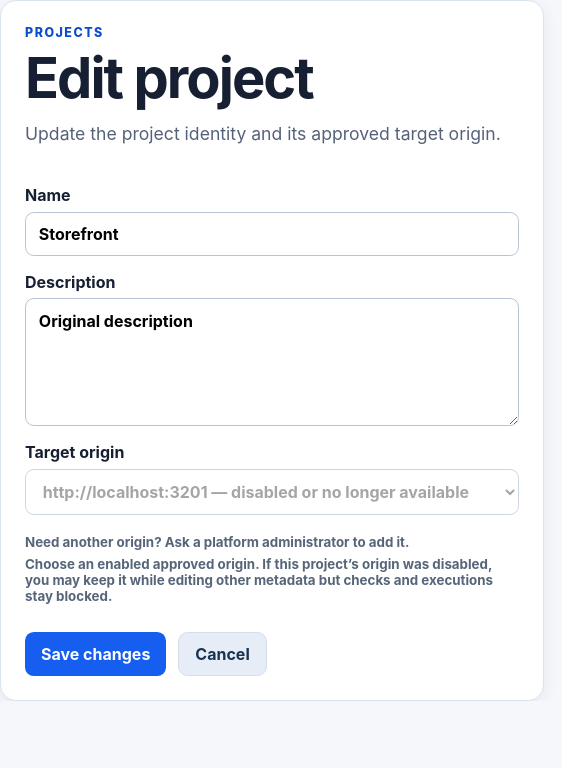
Test case: EditProjectPage › shows the correlation reference and reloads the latest project after a stale save
Step 1. Replace the text in the field labelled "Name" with "Local edit" → (272, 234), box [25, 212, 519, 256]
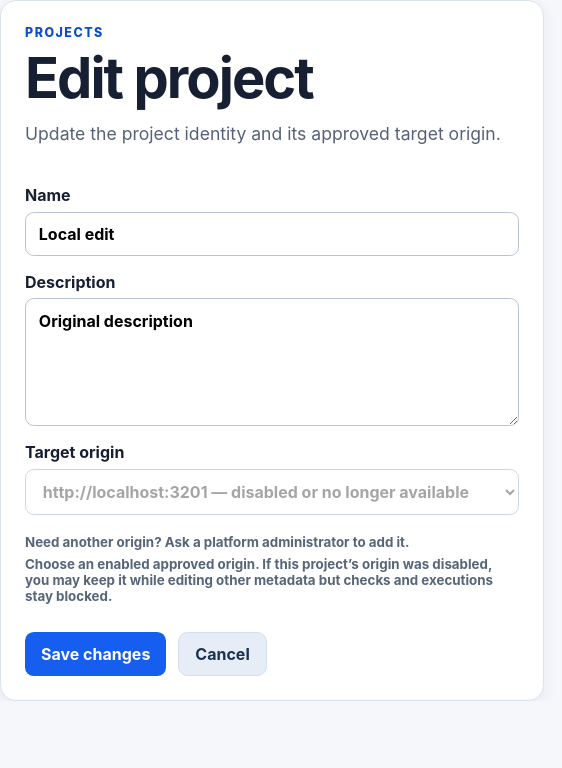
Step 2. Click the button "Save changes" → (96, 654), box [25, 632, 166, 676]
(page scrolled)
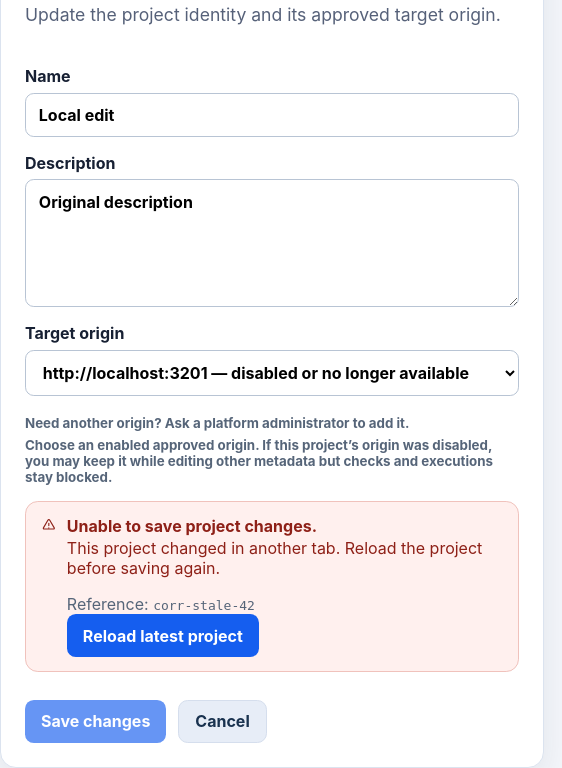
Now the text "corr-stale-42" is shown, box [153, 598, 255, 613]
Step 3. Click the button "Reload latest project" → (163, 636), box [67, 614, 259, 657]
(page scrolled)
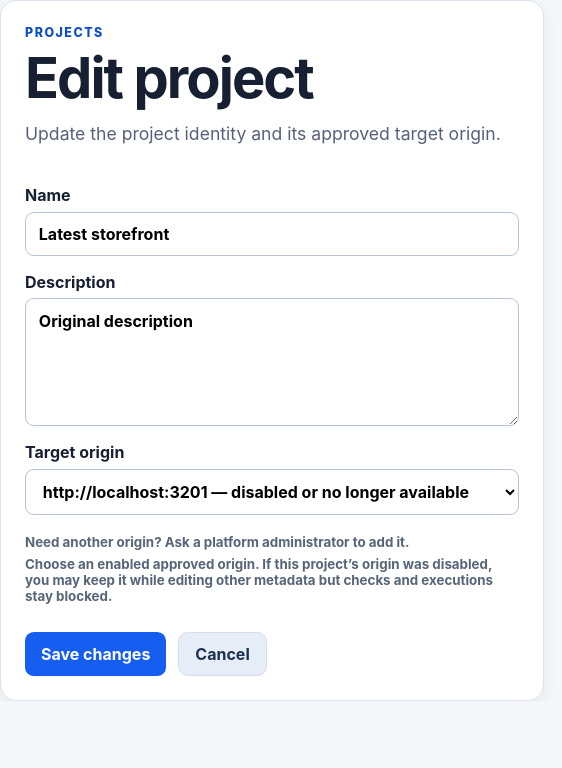
Now the field labelled "Name" holds "Latest storefront", box [25, 212, 519, 256]
Now the text "corr-stale-42" is gone
